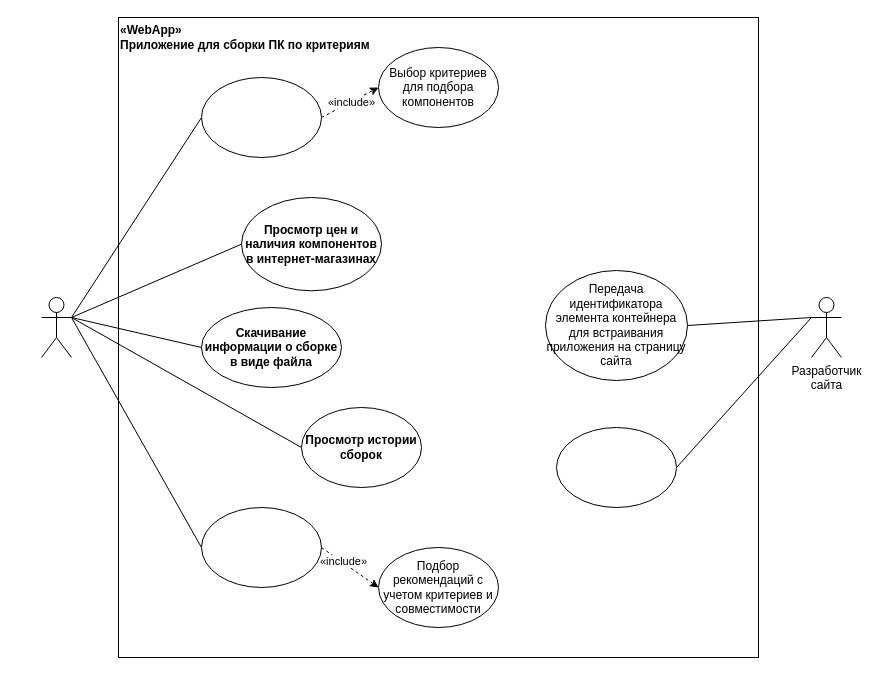
Image size: 879x675. Some labels were removed from this diagram. The shapes that lost their labels are listed below. From the top down, each one's box as (x1, y1, x2, y2) in pixels, then its label:
(200, 76, 322, 158): Подбор оптимальной сборки ПК
(40, 296, 72, 358): Пользователь
(556, 426, 676, 508): Передача пути к файлу со списком компонентов
(200, 506, 322, 588): Ручной выбор компонентов с поддержкой рекомендаций
